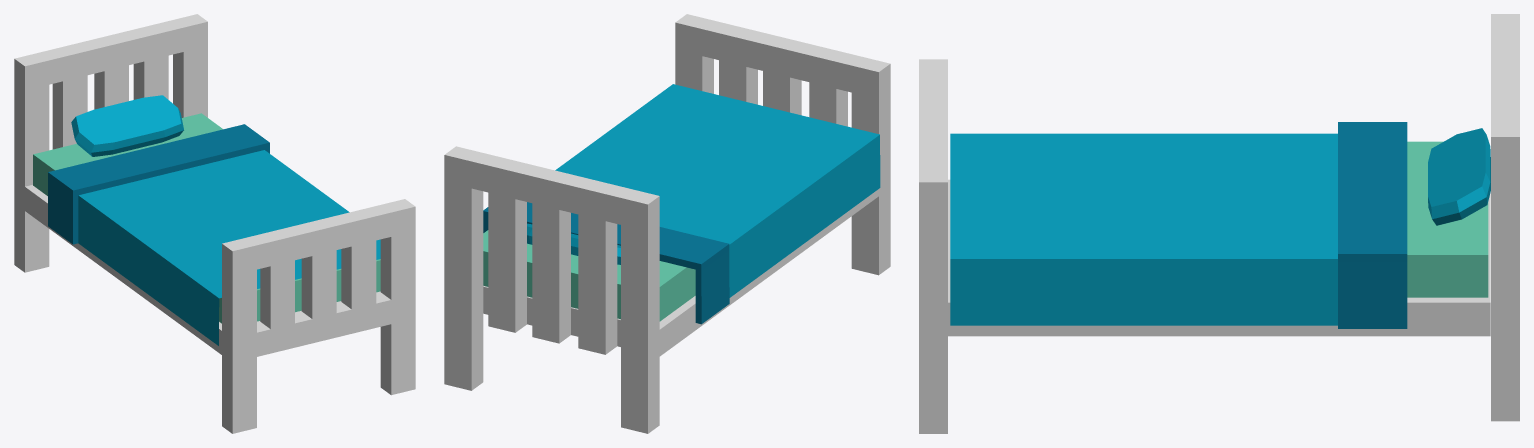
Rendered from LitSimple.fbx.
The picture shows the model from 3 angles, left to right: view 1: azimuth 30°, elevation 25°; view 2: azimuth 150°, elevation 25°; view 3: azimuth 270°, elevation 25°; orthographic projection. The views are drawn at different scales.
Parts seen in each view (by area): view 1: Plane.026; view 2: Plane.026; view 3: Plane.026.
Boxes of the visible parts, box(x1,y1,x2,y2) form: Plane.026: box(14, 14, 415, 433); Plane.026: box(444, 14, 890, 433); Plane.026: box(919, 14, 1519, 433).
Size of the model in its own units: 341 by 355 by 651.
